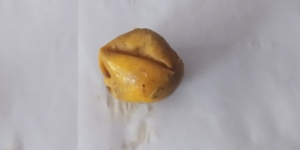BAD: (98, 28, 187, 103)
